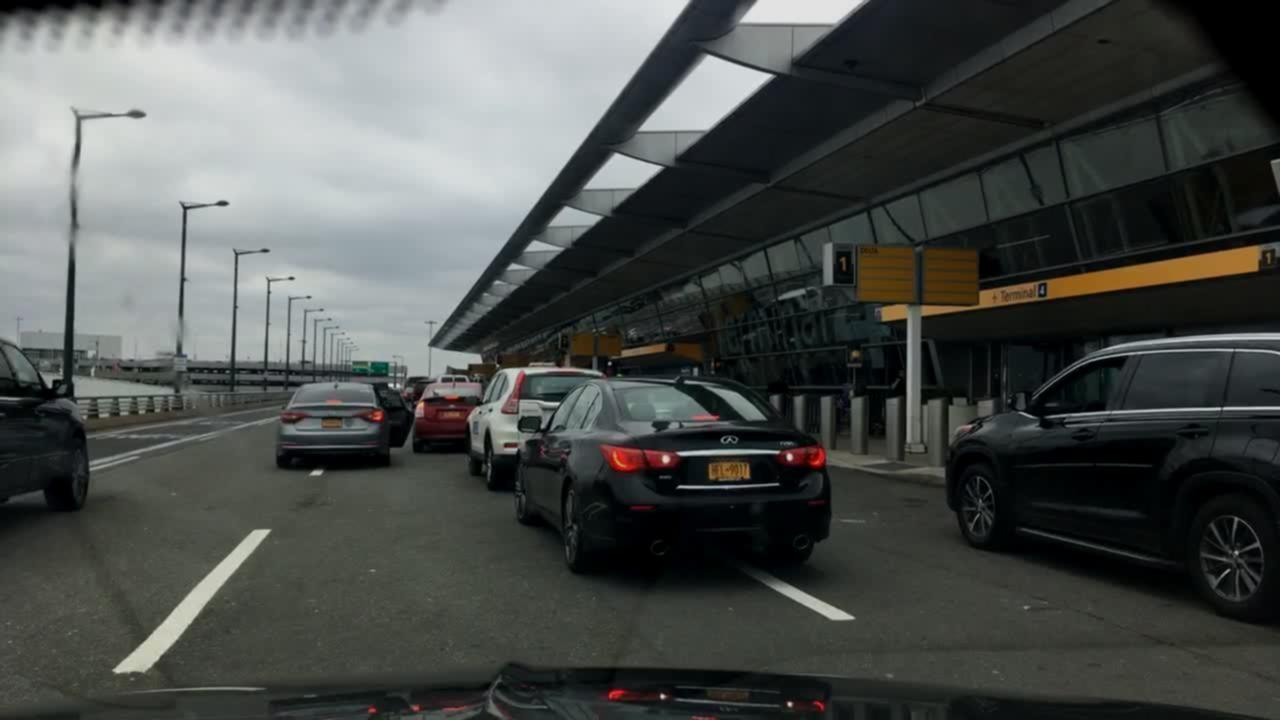Infiniti: (706, 429, 747, 456)
